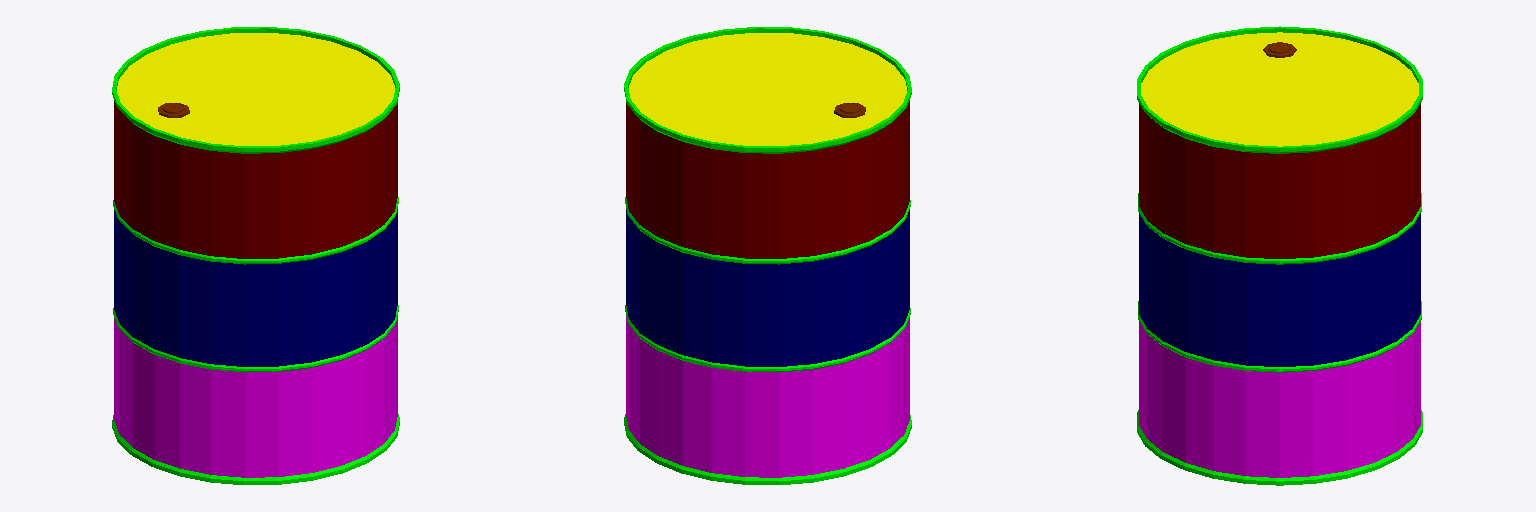
File: barrel.obj
3 views of the same model, side by side, from view 1: azimuth 30°, elevation 25°; view 2: azimuth 150°, elevation 25°; view 3: azimuth 270°, elevation 25° (orthographic).
Visible parts, largest first — view 1: b_low; view 2: b_low; view 3: b_low.
Part boxes in pixels (left/top/right/bottom): b_low: left=112, top=27, right=399, bottom=484; b_low: left=624, top=27, right=911, bottom=484; b_low: left=1137, top=26, right=1422, bottom=485.
Bounding box in the file's own units: 2.03 × 2.63 × 2.02.